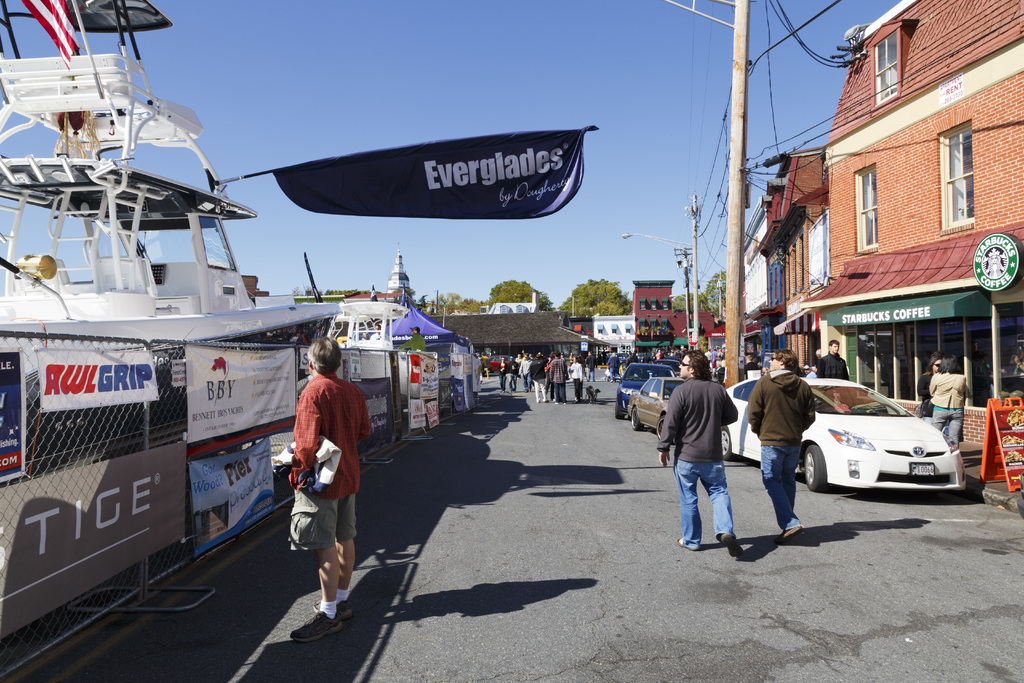Car: (717, 372, 967, 490), (615, 356, 684, 413), (627, 371, 677, 438)
